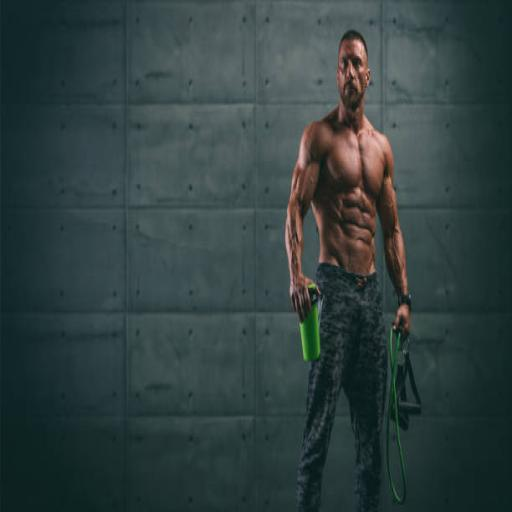Person: (266, 113, 421, 406)
no_gloves: (378, 270, 411, 312), (286, 253, 312, 294)
no_goggle: (330, 142, 364, 158)
no_helmet: (327, 128, 372, 161)
none: (288, 175, 410, 277)
